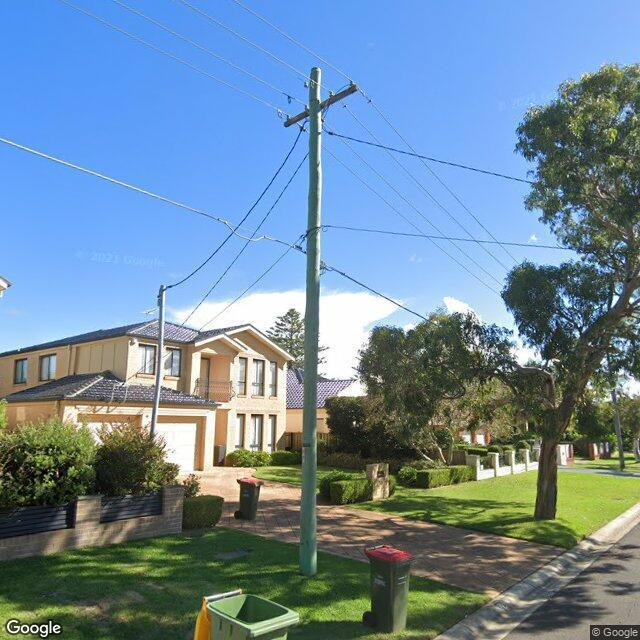crossarm: (282, 84, 359, 129)
steel-pole: (148, 283, 166, 437)
timber-pole: (298, 66, 324, 576), (605, 351, 627, 471)
